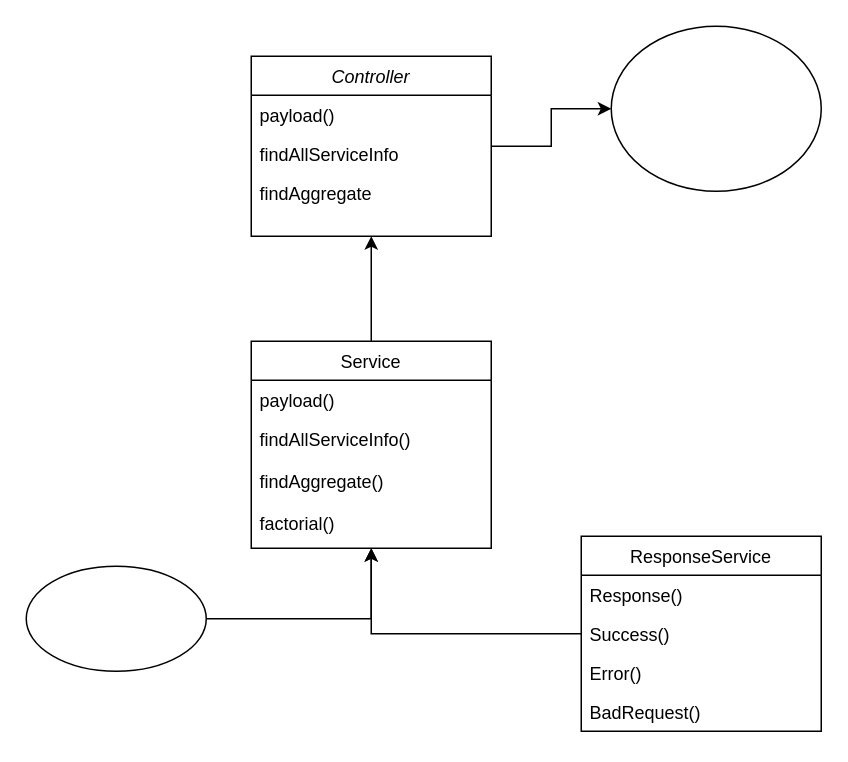
This 848x762 diagram has some shape labels left out. Here are the shapes that lost their labels. From the top down, the centre of each, then its label:
At pixel 715 108: "View(Handlebars)".
At pixel 115 618: "Entities(Services, Records)".
